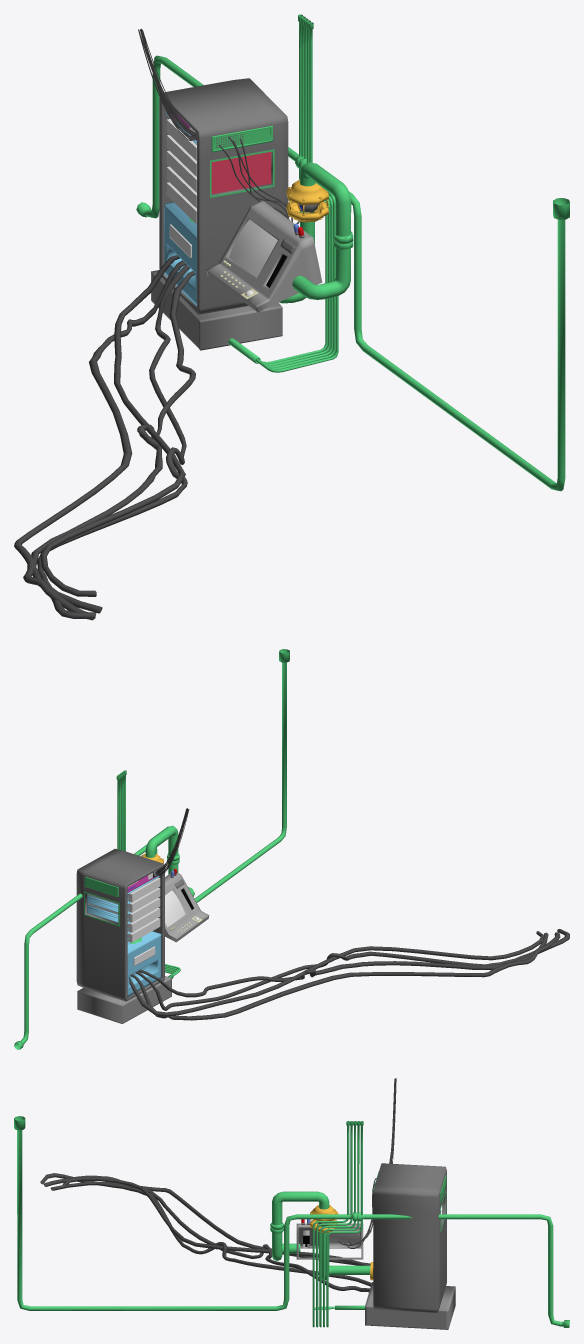
Rendered from UpgradeMachine.fbx.
3 views of the same model, one above another, from view 1: azimuth 30°, elevation 25°; view 2: azimuth 150°, elevation 25°; view 3: azimuth 270°, elevation 25° (orthographic). The views are drawn at different scales.
Parts seen in each view (by area): view 1: Server-cables, Cube.062, wallpipe1, Cube.001, wallcables, Cube.082, Cube.029, Cube, Cube.070, Cube.004, Cube.064, 8ballConverter (+1 smaller); view 2: Server-cables, Cube.062, wallpipe1, Cube.082, Cube, Cube.070, Cube.001, wallcables, Cube.029, Plane.015, Cube.064; view 3: Cube.062, wallpipe1, Server-cables, wallcables, Cube.029, Cube.082, Cube.001, 8ballConverter.
Boxes of the visible parts, <box> form: Server-cables: <box>14,28,299,620</box>; Cube.062: <box>159,78,288,314</box>; wallpipe1: <box>136,55,569,491</box>; Cube.001: <box>206,200,322,312</box>; wallcables: <box>228,14,338,372</box>; Cube.082: <box>151,270,282,350</box>; Cube.029: <box>279,162,353,303</box>; Cube: <box>166,119,196,224</box>; Cube.070: <box>164,202,196,305</box>; Cube.004: <box>211,152,271,194</box>; Cube.064: <box>228,219,277,277</box>; 8ballConverter: <box>286,179,328,222</box>; Server-cables: <box>129,808,569,1020</box>; Cube.062: <box>76,848,164,1001</box>; wallpipe1: <box>14,649,289,1049</box>; Cube.082: <box>77,976,171,1023</box>; Cube: <box>87,877,160,942</box>; Cube.070: <box>127,931,161,996</box>; Cube.001: <box>165,873,209,942</box>; wallcables: <box>116,770,180,978</box>; Cube.029: <box>145,825,194,896</box>; Plane.015: <box>87,876,159,944</box>; Cube.064: <box>165,890,185,927</box>; Cube.062: <box>373,1163,446,1312</box>; wallpipe1: <box>14,1116,569,1327</box>; Server-cables: <box>40,1078,396,1292</box>; wallcables: <box>312,1121,364,1327</box>; Cube.029: <box>270,1191,370,1279</box>; Cube.082: <box>365,1282,455,1329</box>; Cube.001: <box>296,1223,363,1259</box>; 8ballConverter: <box>310,1205,338,1232</box>.
Size of the model in its own units: 437 by 281 by 666.
